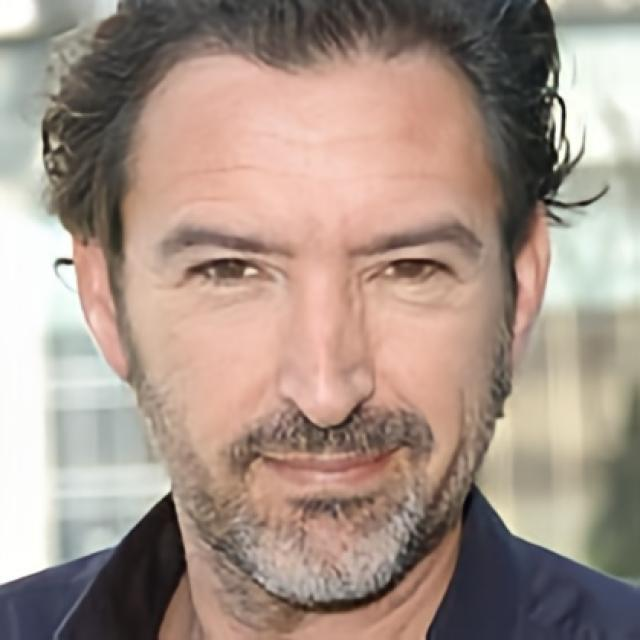content: (119, 38, 510, 616)
